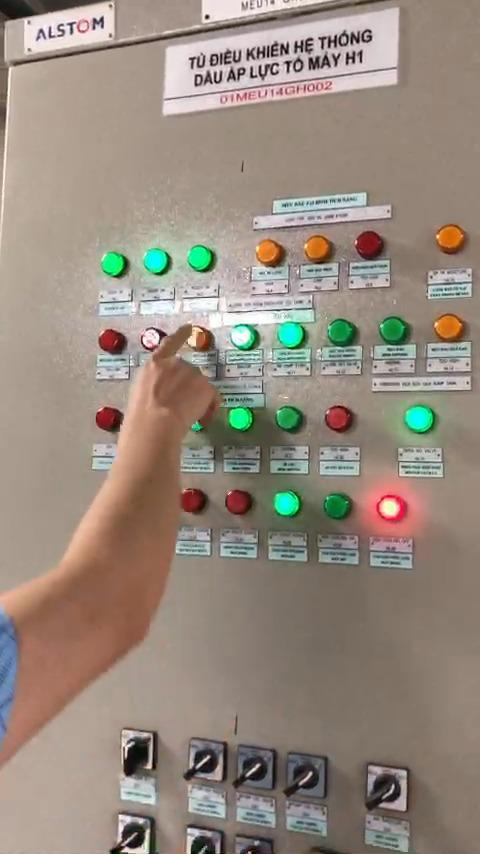led: (433, 224, 469, 259), (353, 231, 390, 265), (320, 489, 355, 524), (432, 311, 468, 345), (404, 402, 438, 435), (94, 328, 130, 358), (222, 486, 255, 518), (327, 315, 358, 348), (324, 401, 355, 434), (377, 493, 410, 524), (185, 244, 216, 276), (300, 234, 334, 263), (224, 403, 255, 434), (273, 405, 304, 436), (227, 322, 259, 352), (275, 321, 309, 349), (91, 406, 122, 436), (99, 251, 128, 283), (139, 326, 169, 355), (379, 313, 410, 341), (254, 239, 283, 268), (185, 322, 213, 352), (177, 485, 208, 512), (142, 245, 170, 274), (273, 490, 300, 520)
twist: (365, 763, 408, 811), (285, 755, 328, 799), (187, 738, 224, 785), (119, 729, 157, 774), (240, 746, 273, 793), (114, 815, 153, 854), (189, 827, 219, 854), (235, 836, 270, 854)
